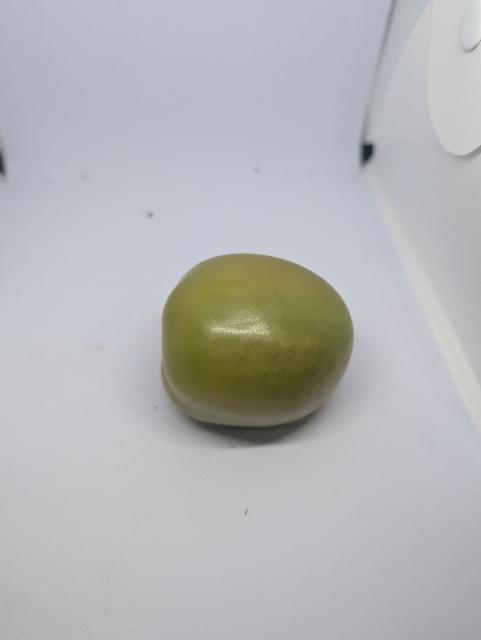green: (142, 239, 372, 435)
